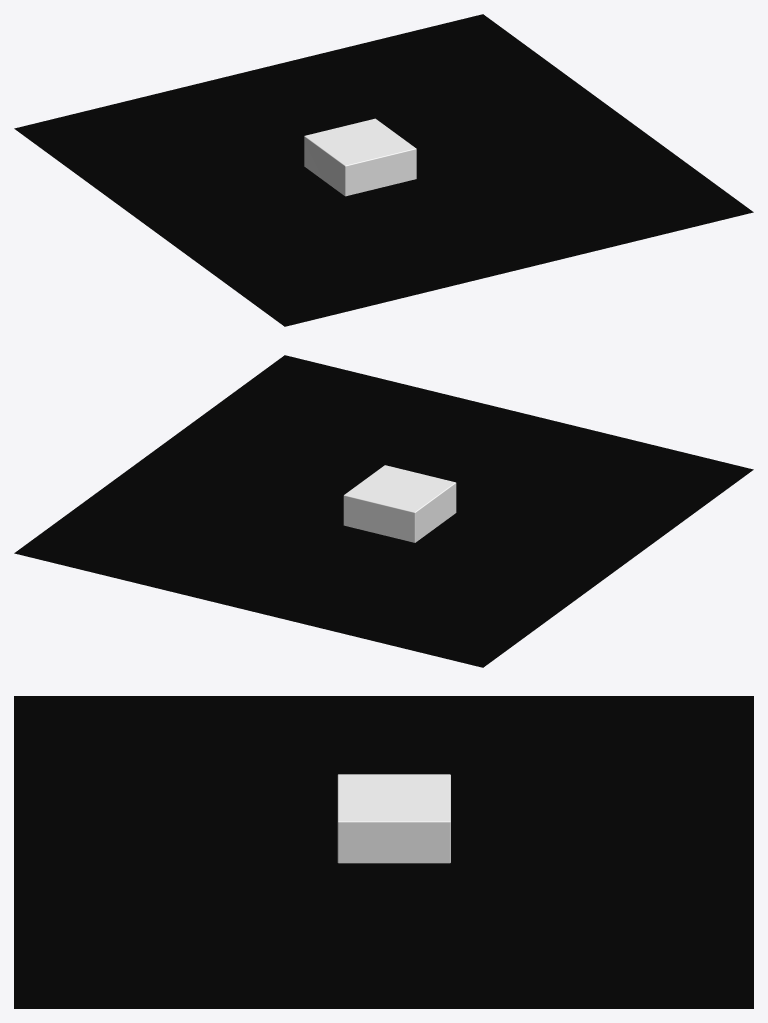
3 views of the same model, one above another, from view 1: azimuth 30°, elevation 25°; view 2: azimuth 150°, elevation 25°; view 3: azimuth 270°, elevation 25° (orthographic). The views are drawn at different scales.
Parts seen in each view (by area): view 1: Plane, _switchable; view 2: Plane, _switchable; view 3: Plane, _switchable.
Part boxes in pixels (x1,y1,x2,y2): Plane: (14,14,753,326); _switchable: (304,118,416,196); Plane: (14,355,753,667); _switchable: (343,465,456,542); Plane: (14,696,753,1008); _switchable: (337,774,450,863).
Bounding box in the file's own units: 0.6 × 0.0917 × 0.6.
Materials: 2 (1 with a texture image).
